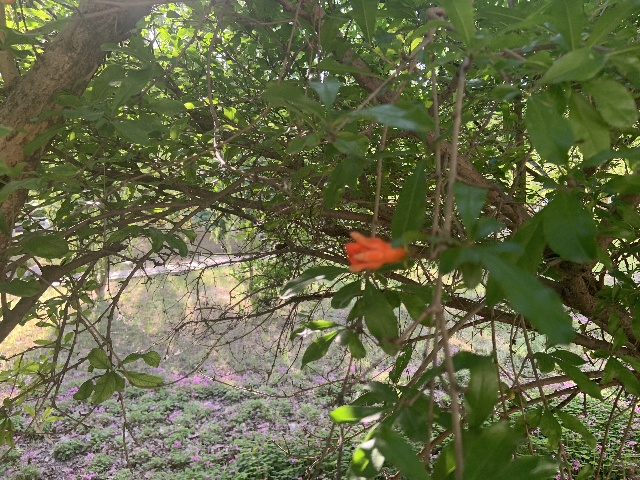flower: (344, 231, 406, 272)
